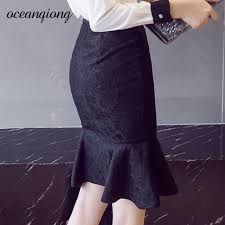S_skirt: (55, 15, 181, 211)
